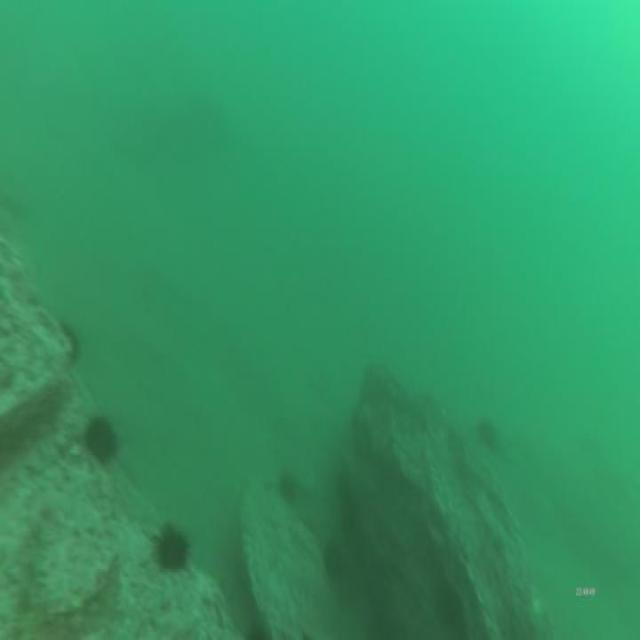echinus: (152, 518, 193, 577), (80, 408, 119, 468), (434, 578, 465, 632), (318, 537, 347, 583), (58, 316, 82, 368), (274, 466, 298, 507), (476, 414, 500, 454)
